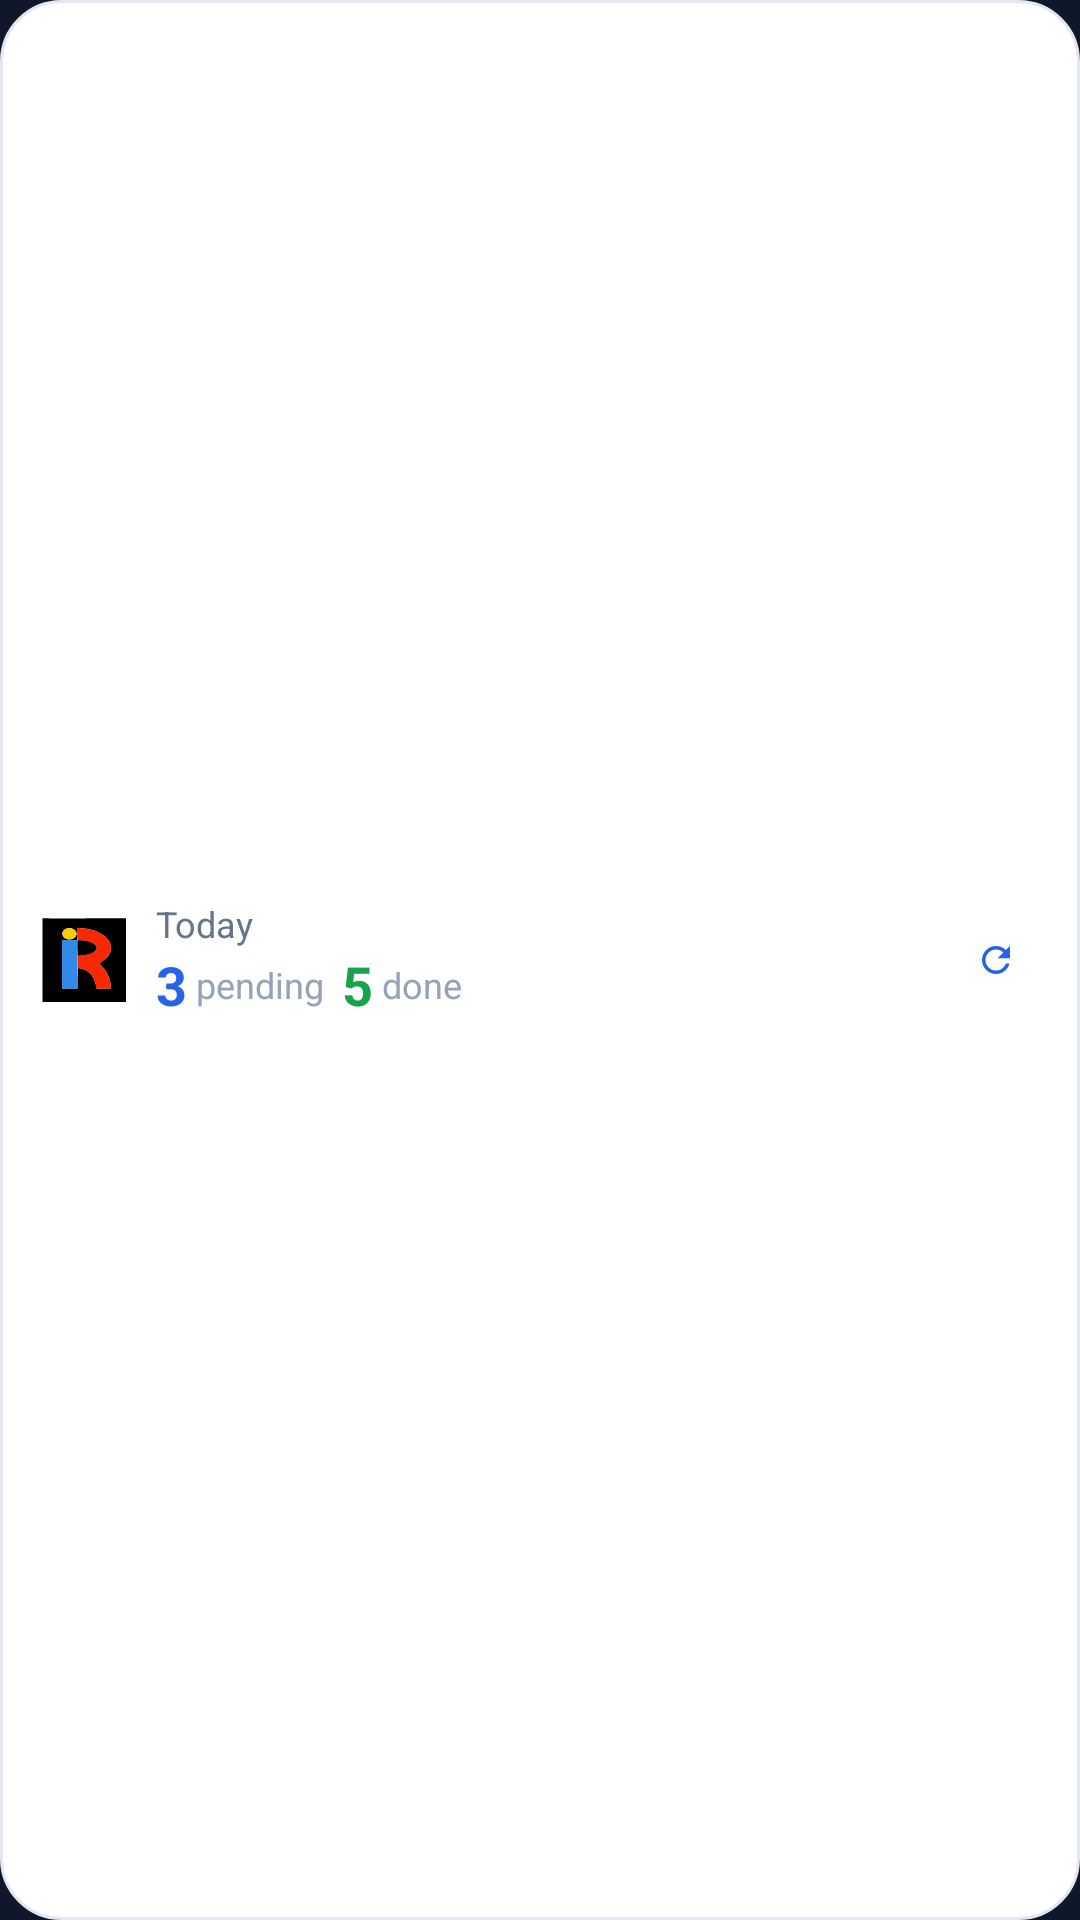

Icons on this 1080px×1920px Android screen, each with its box as rect(x1, y1, x2, y2):
Refresh: rect(982, 946, 1010, 974)
